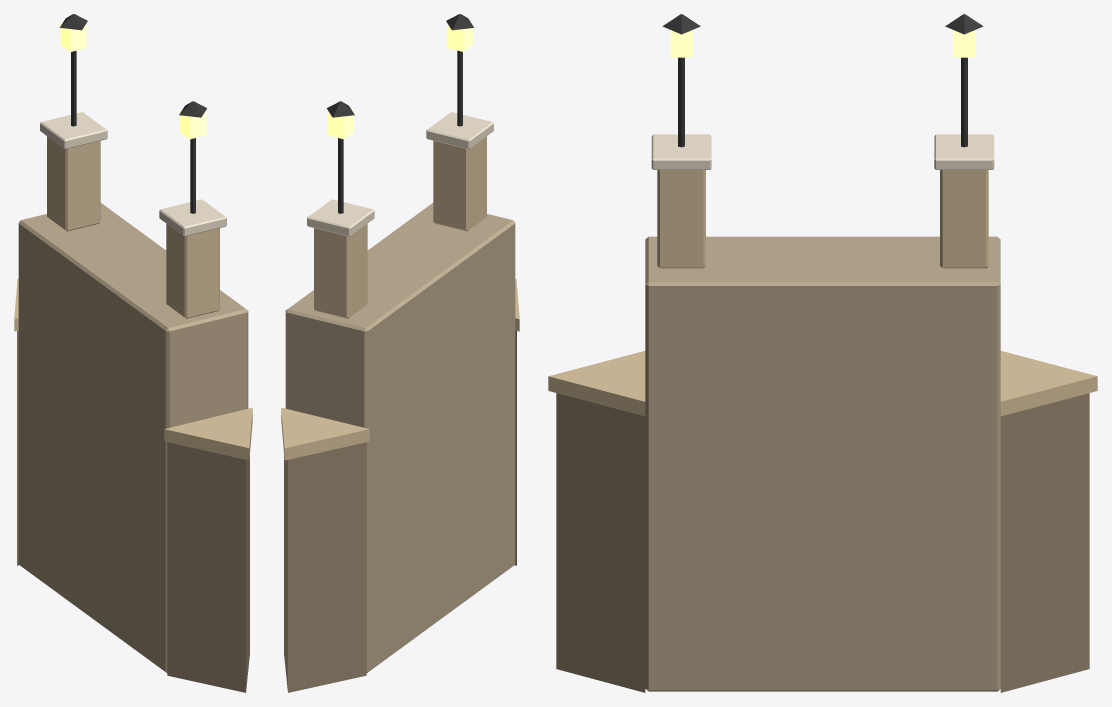
Rendered from bridge_pier.glb.
3 views of the same model, side by side, from view 1: azimuth 30°, elevation 25°; view 2: azimuth 150°, elevation 25°; view 3: azimuth 270°, elevation 25° (orthographic). The views are drawn at different scales.
Visible parts, largest first — view 1: pier; view 2: pier; view 3: pier.
Part boxes in pixels (x1,y1,x2,y2): pier: (14,14,252,692); pier: (281,14,519,692); pier: (548,14,1097,692).
Bounding box in the file's own units: 1.5 × 8.94 × 6.8.
